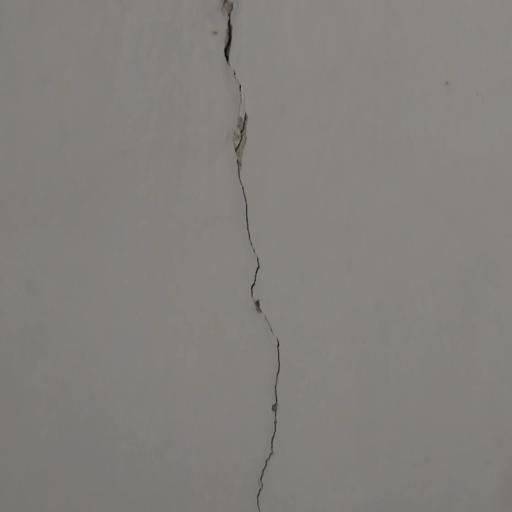major_crack: (210, 0, 306, 512)
